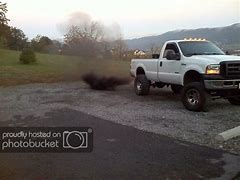smoke: (78, 71, 132, 91)
